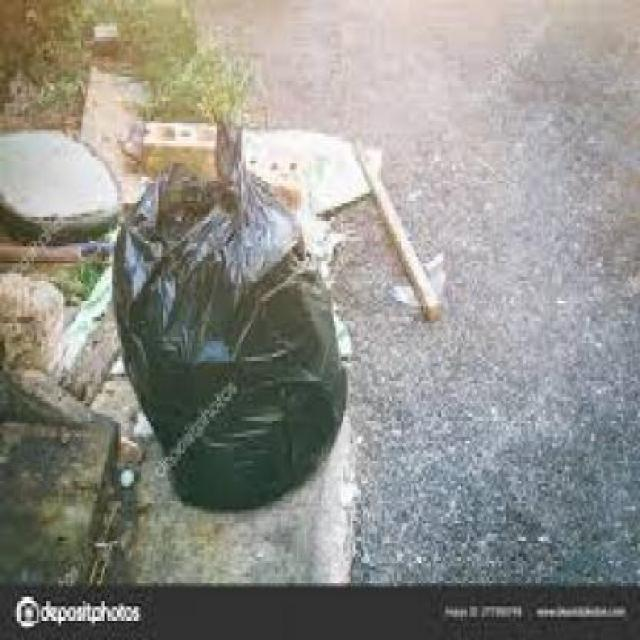garbage: (0, 0, 489, 533)
